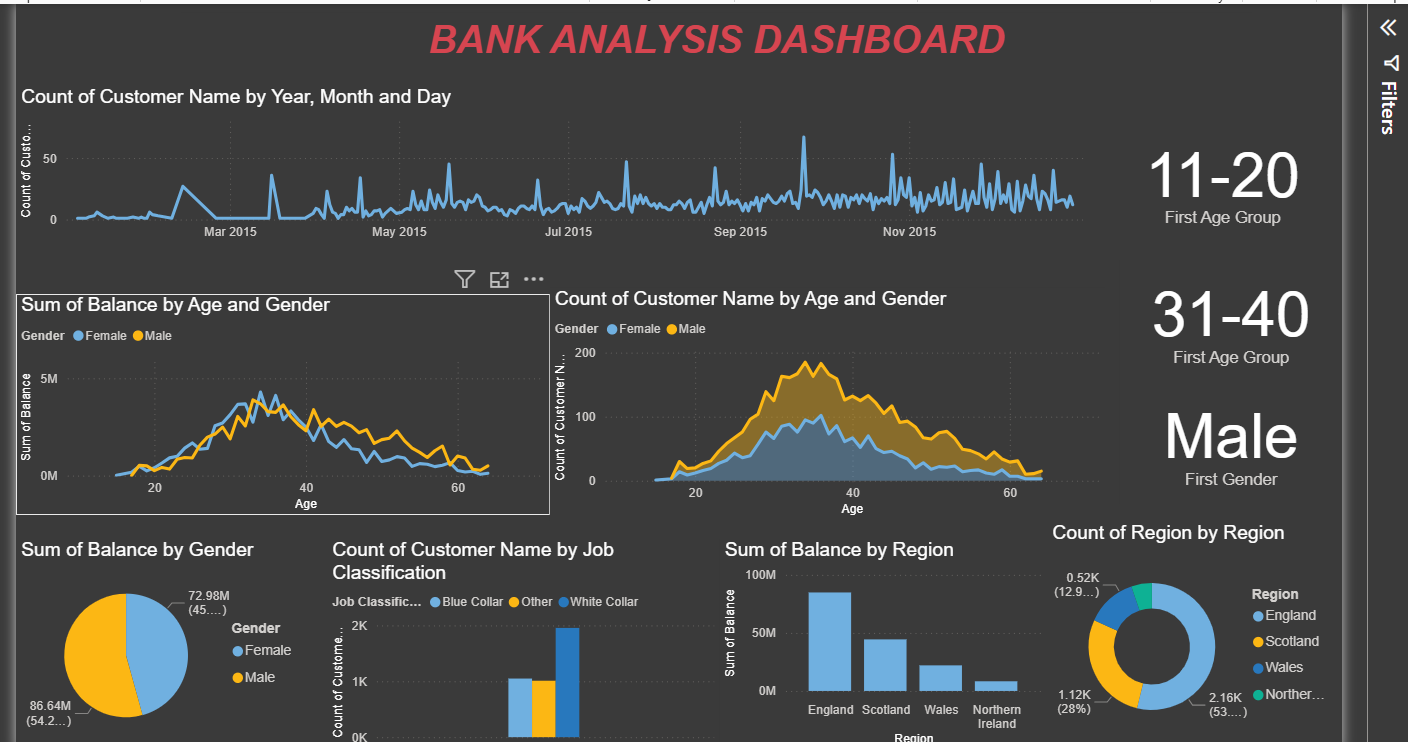

Layout of this report page (visuals, bound fields, positions):
{"tool":"powerbi","page":{"name":"Page 1","canvas":[1280,720],"ordinal":0},"visuals":[{"type":"pieChart","fields":{"Y":["Sum(P6-UK-Bank-Customers.Balance)"],"Series":["P6-UK-Bank-Customers.Gender"]},"box":[0,516,279.9,204.5],"z":0},{"type":"clusteredColumnChart","fields":{"Series":["P6-UK-Bank-Customers.Job Classification"],"Y":["CountNonNull(P6-UK-Bank-Customers.Customer Name)"]},"box":[300.5,516,378.7,204.5],"z":1000},{"type":"clusteredColumnChart","fields":{"Y":["Sum(P6-UK-Bank-Customers.Balance)"],"Category":["P6-UK-Bank-Customers.Region"]},"box":[679.2,516,315.6,204.5],"z":2000},{"type":"lineChart","fields":{"Y":["Sum(P6-UK-Bank-Customers.Balance)"],"Category":["P6-UK-Bank-Customers.Age"],"Series":["P6-UK-Bank-Customers.Gender"]},"box":[0,279.9,514.6,214.1],"z":3000},{"type":"stackedAreaChart","fields":{"Category":["P6-UK-Bank-Customers.Age"],"Series":["P6-UK-Bank-Customers.Gender"],"Y":["CountNonNull(P6-UK-Bank-Customers.Customer Name)"]},"box":[514.6,274.4,535.2,225],"z":4000},{"type":"card","fields":{"Values":["Min(P6-UK-Bank-Customers.Gender)"]},"box":[1064.8,359.5,215.4,123.5],"z":5000},{"type":"card","fields":{"Values":["Min(P6-UK-Bank-Customers.Age Group)"]},"box":[1049.7,102.9,230.5,133.1],"z":6000},{"type":"donutChart","fields":{"Category":["P6-UK-Bank-Customers.Region"],"Y":["CountNonNull(P6-UK-Bank-Customers.Region)"]},"box":[994.9,499.5,285.4,220.9],"z":7000},{"type":"lineChart","fields":{"Y":["CountNonNull(P6-UK-Bank-Customers.Customer Name)"],"Category":["P6-UK-Bank-Customers.Date Joined.Variation.Date Hierarchy.Year","P6-UK-Bank-Customers.Date Joined.Variation.Date Hierarchy.Month","P6-UK-Bank-Customers.Date Joined.Variation.Date Hierarchy.Day"]},"box":[0,78.2,1051.1,157.8],"z":8000},{"type":"card","fields":{"Values":["Min(P6-UK-Bank-Customers.Age Group)"]},"box":[1064.8,247,215.4,112.5],"z":9000},{"type":"textbox","box":[159.2,8.2,1033.3,70],"z":10000}]}

Visuals, with their boxes on the page's 1280x720 design canvas (x1, y1, x2, y2). These are canvas units, not pixel positions in the 1408x742 screenshot, which may show the page scaled, cropped or inside an application window:
pieChart - Sum(P6-UK-Bank-Customers.Balance) x P6-UK-Bank-Customers.Gender: x1=0 y1=516 x2=280 y2=720
clusteredColumnChart - P6-UK-Bank-Customers.Job Classification x CountNonNull(P6-UK-Bank-Customers.Customer Name): x1=300 y1=516 x2=679 y2=720
clusteredColumnChart - Sum(P6-UK-Bank-Customers.Balance) x P6-UK-Bank-Customers.Region: x1=679 y1=516 x2=995 y2=720
lineChart - Sum(P6-UK-Bank-Customers.Balance) x P6-UK-Bank-Customers.Age: x1=0 y1=280 x2=515 y2=494
stackedAreaChart - P6-UK-Bank-Customers.Age x P6-UK-Bank-Customers.Gender: x1=515 y1=274 x2=1050 y2=499
card - Min(P6-UK-Bank-Customers.Gender): x1=1065 y1=360 x2=1280 y2=483
card - Min(P6-UK-Bank-Customers.Age Group): x1=1050 y1=103 x2=1280 y2=236
donutChart - P6-UK-Bank-Customers.Region x CountNonNull(P6-UK-Bank-Customers.Region): x1=995 y1=500 x2=1280 y2=720
lineChart - CountNonNull(P6-UK-Bank-Customers.Customer Name) x P6-UK-Bank-Customers.Date Joined.Variation.Date Hierarchy.Year: x1=0 y1=78 x2=1051 y2=236
card - Min(P6-UK-Bank-Customers.Age Group): x1=1065 y1=247 x2=1280 y2=360
textbox: x1=159 y1=8 x2=1192 y2=78
